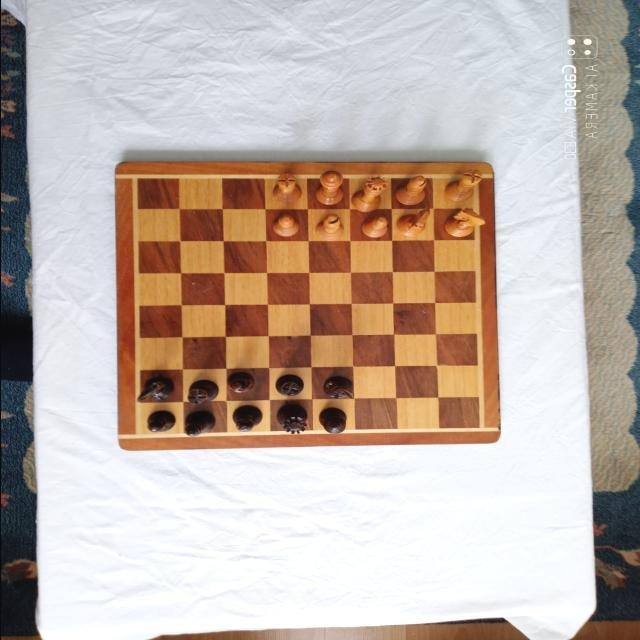black-bishop: (183, 411, 217, 437), (232, 405, 262, 433)
black-king: (317, 406, 347, 434)
black-knight: (135, 375, 174, 403), (322, 376, 354, 400)
black-pawn: (146, 410, 174, 433), (226, 371, 254, 393)
black-queen: (276, 405, 308, 435)
black-rook: (186, 380, 218, 404), (274, 374, 304, 397)
white-bishop: (394, 175, 426, 205), (315, 213, 345, 241)
white-king: (313, 170, 342, 205)
white-knight: (443, 207, 485, 237), (396, 208, 432, 236)
white-pawn: (270, 214, 298, 238), (360, 216, 388, 238)
white-queen: (348, 174, 388, 212)
white-rook: (443, 170, 483, 202), (270, 173, 302, 203)
